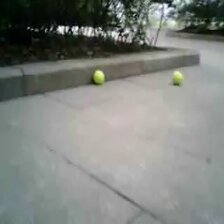tennis: (170, 70, 184, 84), (92, 69, 105, 84)
